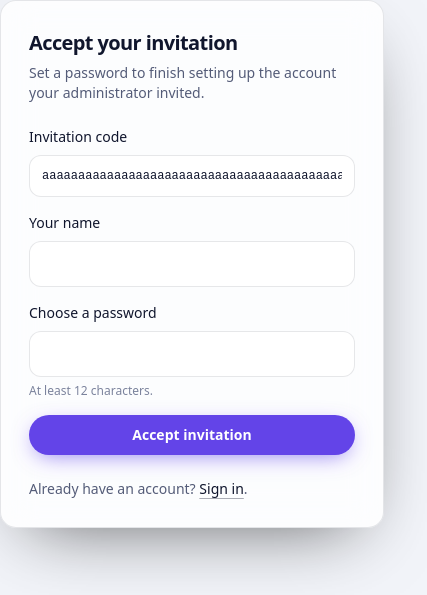
Test: invitation acceptance › posts the acceptance and confirms the account is ready
Type "Ada Lovelace" into the field labelled "Your name" at (192, 264), box [29,241,355,287]
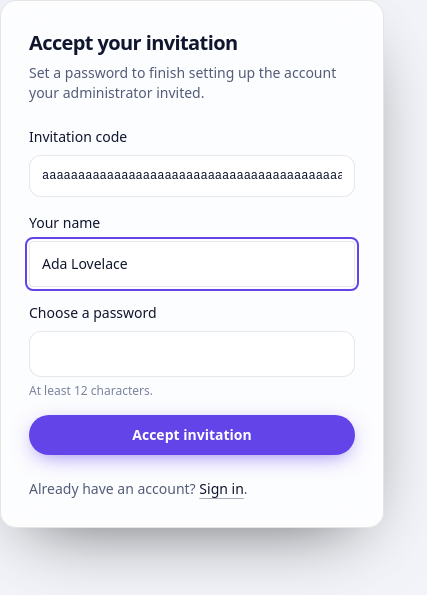
Type "a-long-enough-password" into the password field labelled "Choose a password" at (192, 354), box [29,331,355,377]
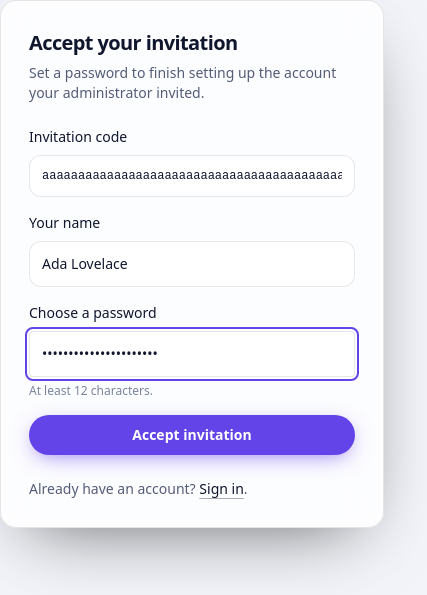
Click the button "Accept invitation" at (192, 435), box [29,415,355,455]
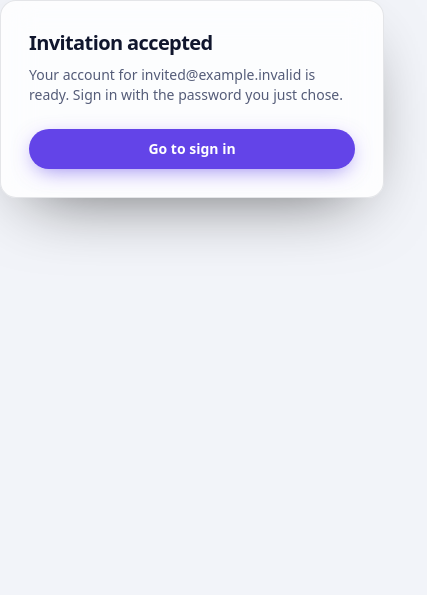
expect the heading "Invitation accepted" is shown: met, box [29,29,212,56]
